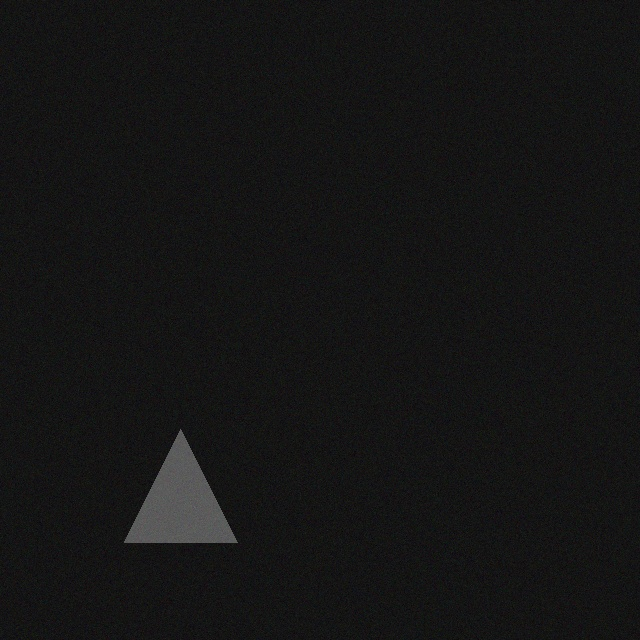triangle: (110, 424, 223, 537)
